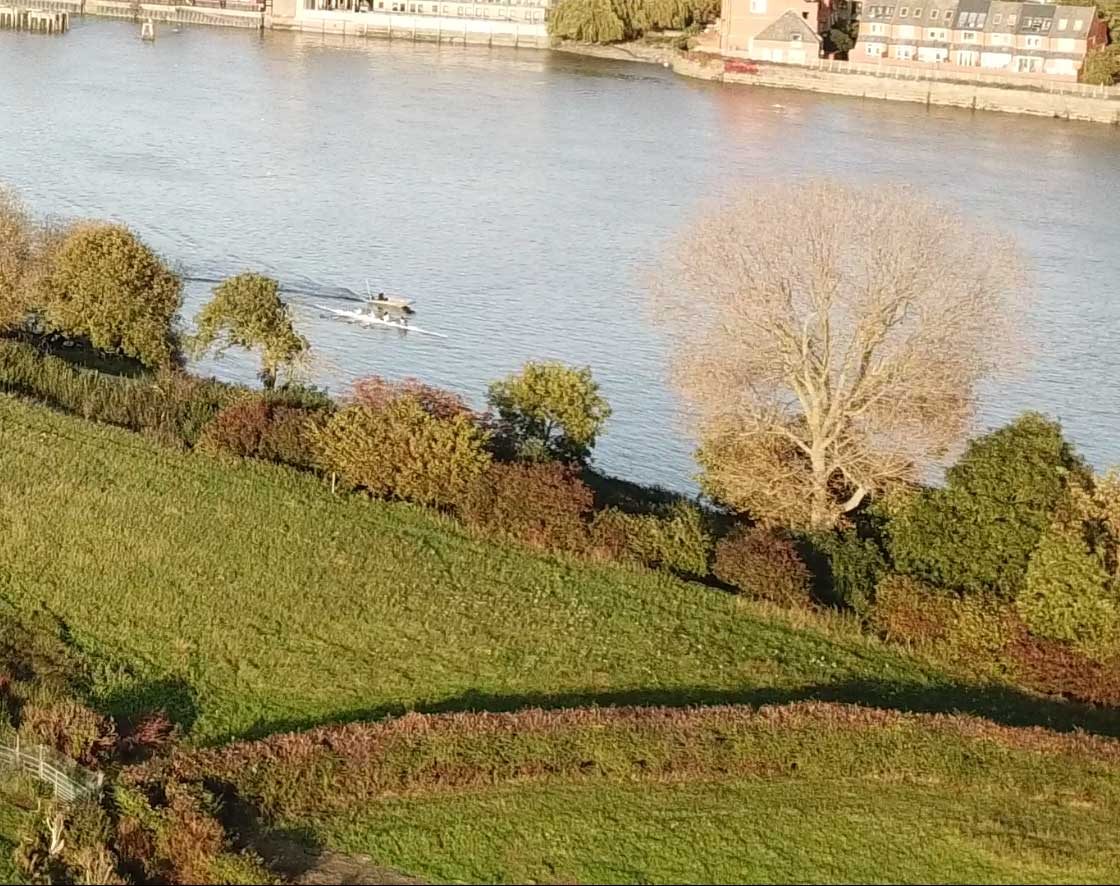tree: (653, 167, 1043, 605)
water: (278, 78, 626, 278), (78, 74, 154, 196)
